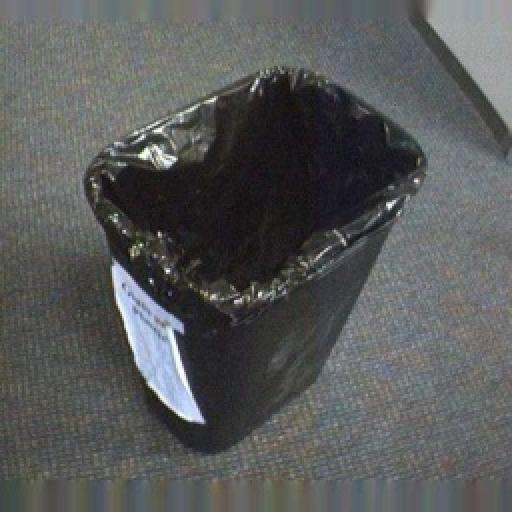trash-can: (64, 46, 440, 450)
